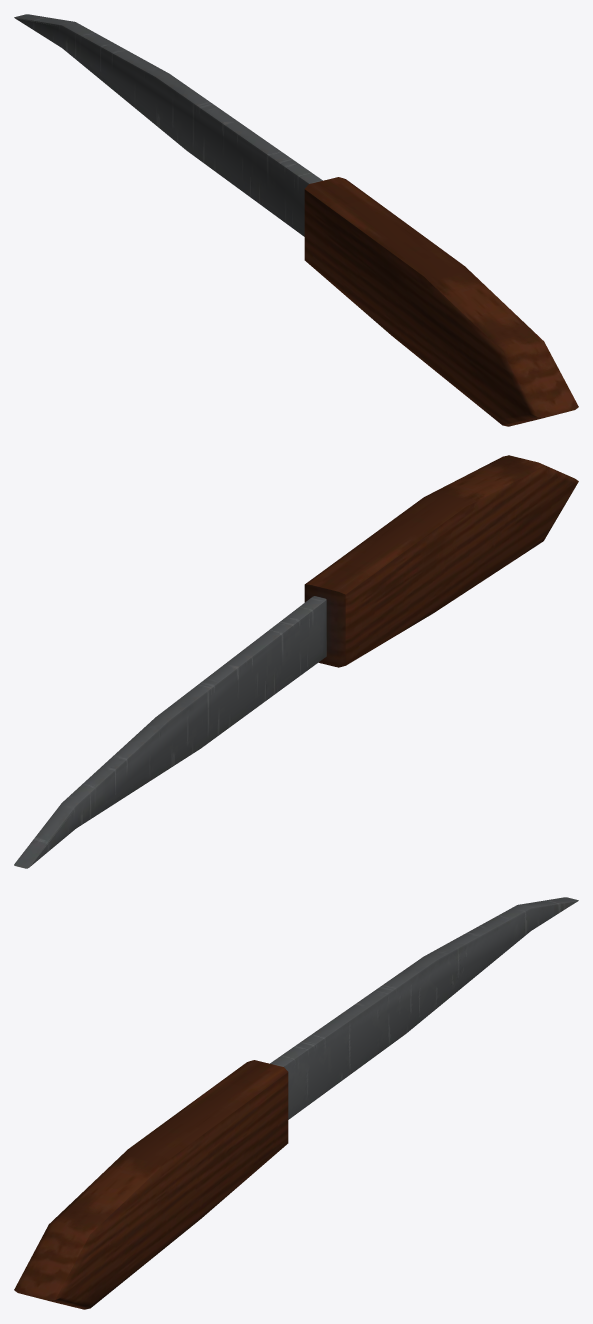
File: knife_navaja.glb
3 views of the same model, one above another, from view 1: azimuth 30°, elevation 25°; view 2: azimuth 150°, elevation 25°; view 3: azimuth 330°, elevation 25° (orthographic).
Parts seen in each view (by area): view 1: body_furniture, body_receiver; view 2: body_furniture, body_receiver; view 3: body_furniture, body_receiver.
Part boxes in pixels (x1=…): body_furniture: x1=304, y1=177, x2=578, y2=426; body_receiver: x1=14, y1=14, x2=322, y2=236; body_furniture: x1=304, y1=455, x2=578, y2=667; body_receiver: x1=14, y1=596, x2=326, y2=868; body_furniture: x1=14, y1=1060, x2=288, y2=1309; body_receiver: x1=270, y1=897, x2=578, y2=1119.
Bounding box in the file's own units: 0.017 × 0.034 × 0.3452.
2 materials, 2 textured.
